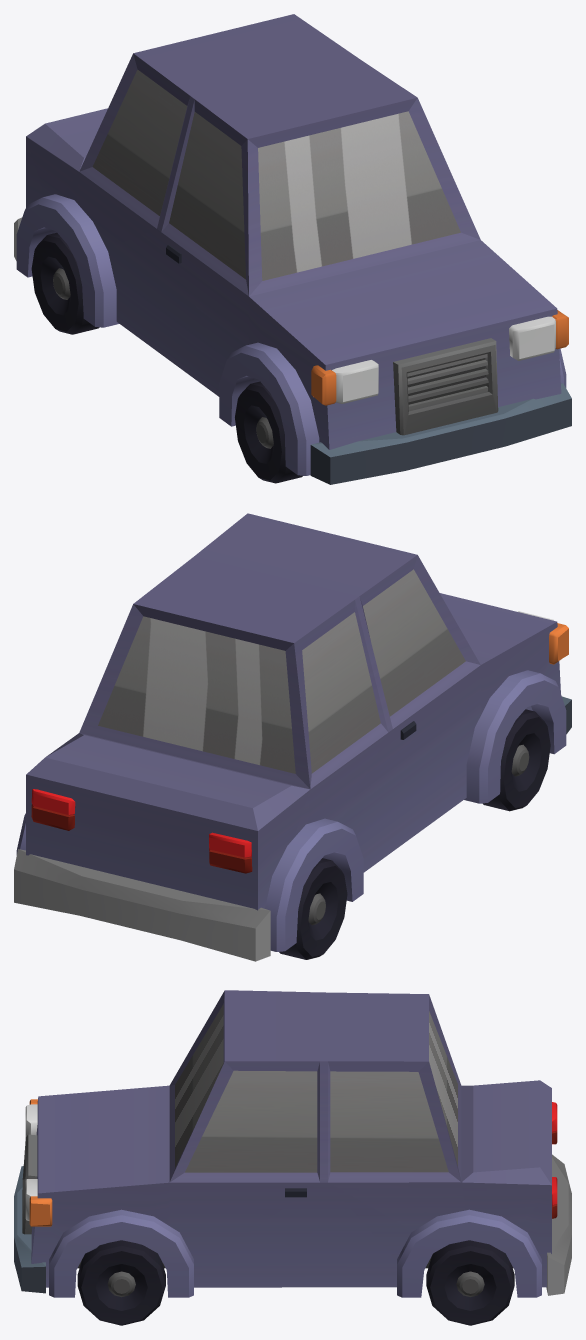
The model's file is Car_2_10.fbx.
The picture shows the model from 3 angles, top to bottom: view 1: azimuth 30°, elevation 25°; view 2: azimuth 150°, elevation 25°; view 3: azimuth 270°, elevation 25°; orthographic projection. The views are drawn at different scales.
Parts seen in each view (by area): view 1: Car_2_10, W_BR, W_FR; view 2: Car_2_10, W_FR, W_BR; view 3: Car_2_10, W_BL, W_FL.
Part boxes in pixels (bbox=[...]): Car_2_10: bbox=[14, 14, 571, 484]; W_BR: bbox=[31, 232, 99, 334]; W_FR: bbox=[235, 381, 302, 483]; Car_2_10: bbox=[14, 513, 571, 961]; W_FR: bbox=[482, 709, 550, 811]; W_BR: bbox=[279, 858, 347, 959]; Car_2_10: bbox=[14, 990, 571, 1297]; W_BL: bbox=[426, 1240, 514, 1325]; W_FL: bbox=[77, 1240, 165, 1325].
Bounding box in the file's own units: 109 × 111 × 228.
